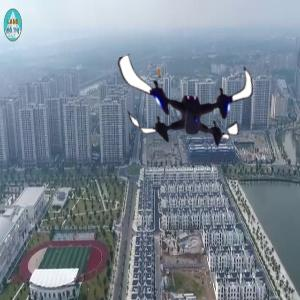drone: (126, 36, 260, 170)
